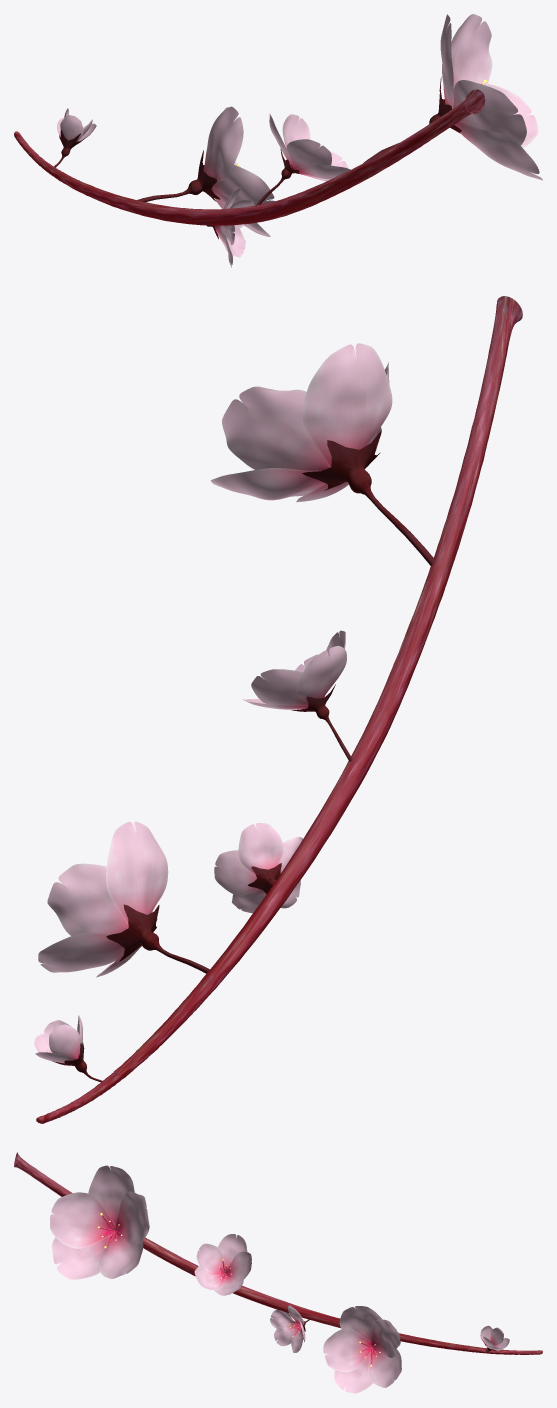
The model's file is cherry_blossom_branch.glb.
3 renders of one model, top to bottom at view 1: azimuth 30°, elevation 25°; view 2: azimuth 150°, elevation 25°; view 3: azimuth 270°, elevation 25°, orthographic. The views are drawn at different scales.
Visible parts, largest first — view 1: Cylinder.019, Plane.017, Plane.014, Plane.022, Plane.016, Plane.018, Plane.023, Plane.013, Circle.003, Plane.015, Plane.026, Plane.024 (+5 smaller); view 2: Cylinder.019, Plane.013, Plane.014, Plane.022, Plane.021, Circle.002, Plane.015, Plane.020, Circle.003, Plane.043, Plane.027, Plane.026 (+1 smaller); view 3: Cylinder.019, Plane.017, Plane.016, Plane.018, Plane.013, Plane.014, Plane.015, Plane.020, Plane.022, Plane.021, Plane.019, Plane.023 (+6 smaller).
Part boxes in pixels (x1,y1,x2,y2): Cylinder.019: (14, 89, 485, 225); Plane.017: (453, 80, 526, 145); Plane.014: (451, 14, 492, 88); Plane.022: (203, 106, 243, 181); Plane.016: (454, 121, 542, 180); Plane.018: (212, 165, 274, 205); Plane.023: (286, 139, 331, 169); Plane.013: (440, 14, 453, 108); Circle.003: (137, 150, 220, 201); Plane.015: (487, 84, 538, 147); Plane.026: (282, 114, 311, 148); Plane.024: (294, 164, 350, 179); Cylinder.019: (36, 296, 522, 1123); Plane.013: (302, 343, 392, 467); Plane.014: (222, 386, 329, 470); Plane.022: (106, 821, 168, 924); Plane.021: (47, 863, 128, 935); Circle.002: (302, 430, 434, 565); Plane.015: (210, 468, 325, 500); Plane.020: (38, 932, 124, 972); Circle.003: (106, 904, 209, 973); Plane.043: (238, 823, 283, 874); Plane.027: (296, 646, 346, 702); Plane.026: (251, 669, 308, 705); Cylinder.019: (14, 1152, 542, 1354); Plane.017: (50, 1192, 115, 1248); Plane.016: (51, 1236, 108, 1279); Plane.018: (323, 1328, 372, 1371); Plane.013: (88, 1165, 134, 1229); Plane.014: (115, 1191, 149, 1245); Plane.015: (98, 1230, 143, 1278); Plane.020: (367, 1349, 401, 1387); Plane.022: (339, 1306, 381, 1344); Plane.021: (371, 1319, 400, 1357); Plane.019: (334, 1349, 375, 1393); Plane.023: (196, 1243, 225, 1275).
Size of the model in its own units: 121 by 200 by 423.
Materials: 4 (4 with a texture image).
